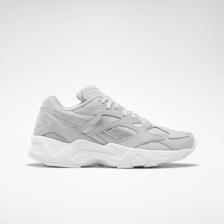Hand: (11, 8, 112, 215), (114, 17, 216, 208)
